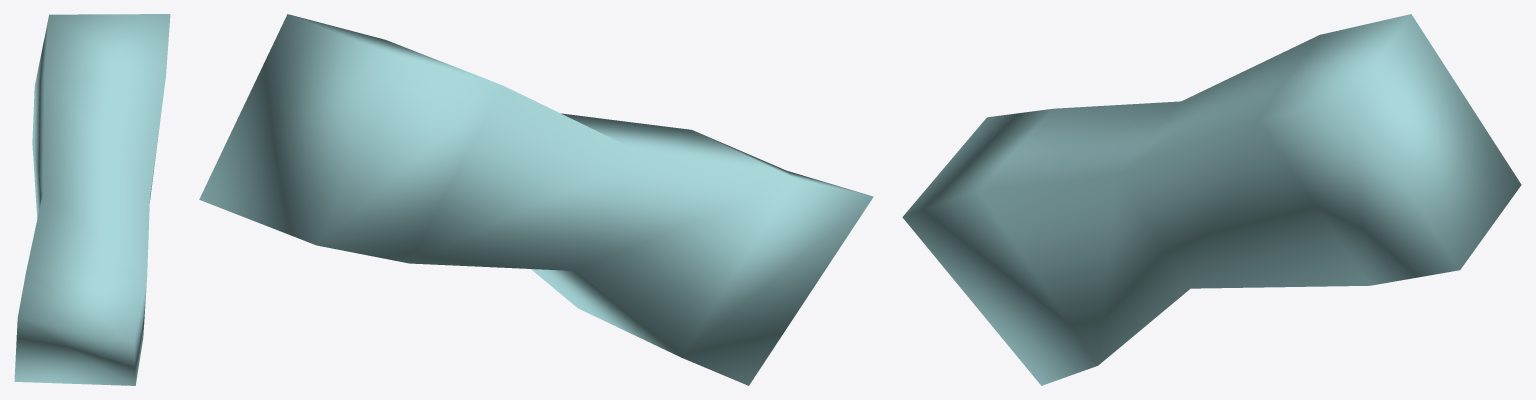
File: Skelly_thumb.02.R.fbx
3 renders of one model, left to right at view 1: azimuth 30°, elevation 25°; view 2: azimuth 150°, elevation 25°; view 3: azimuth 270°, elevation 25°, orthographic. The views are drawn at different scales.
Visible parts, largest first — view 1: Skelly_thumb.02.R; view 2: Skelly_thumb.02.R; view 3: Skelly_thumb.02.R.
Boxes of the visible parts, x1,y1,x2,y2 form: Skelly_thumb.02.R: [14, 14, 170, 385]; Skelly_thumb.02.R: [199, 14, 873, 385]; Skelly_thumb.02.R: [902, 14, 1521, 385].
Bounding box in the file's own units: 2.85 × 2.46 × 3.46.
